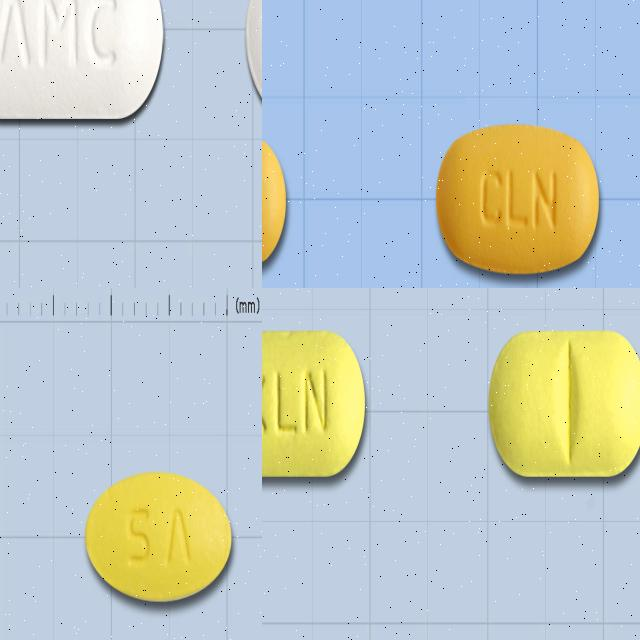Amocla Duo: (0, 0, 165, 127)
CLARIUM: (82, 468, 235, 607)
Clarith: (487, 327, 640, 480), (262, 327, 367, 483)
Criacin: (436, 125, 600, 275)
